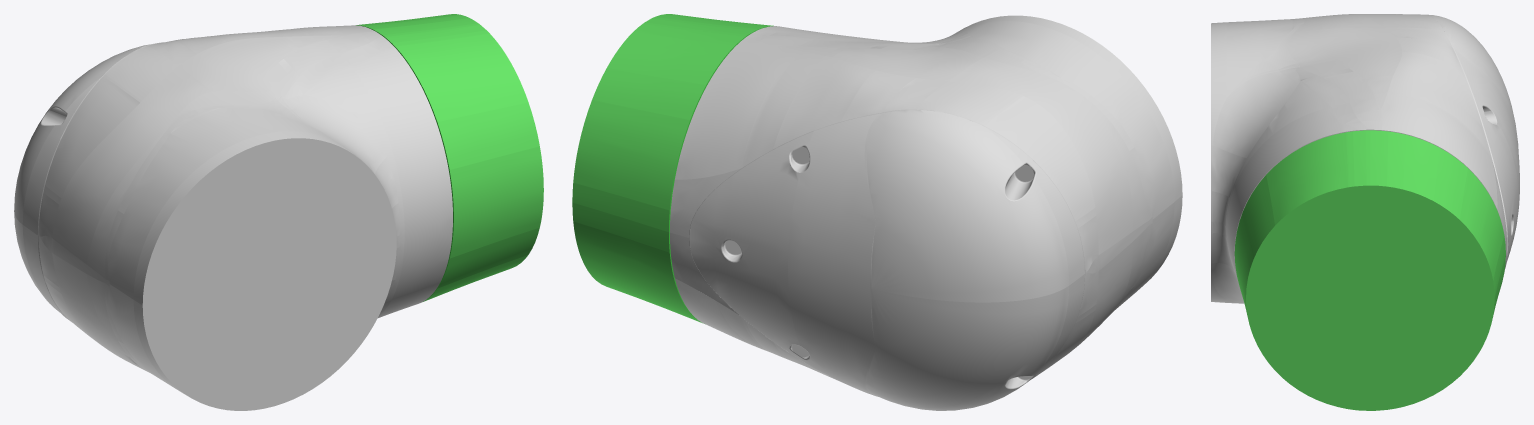
3 renders of one model, left to right at view 1: azimuth 30°, elevation 25°; view 2: azimuth 150°, elevation 25°; view 3: azimuth 270°, elevation 25°, orthographic. The views are drawn at different scales.
Visible parts, largest first — view 1: Mesh_0.015; view 2: Mesh_0.015; view 3: Mesh_0.015.
Part boxes in pixels (bbox=[...]): Mesh_0.015: bbox=[14, 14, 543, 410]; Mesh_0.015: bbox=[572, 14, 1182, 410]; Mesh_0.015: bbox=[1211, 14, 1519, 410].
Size of the model in its own units: 0.2204 by 0.1454 by 0.1428.
